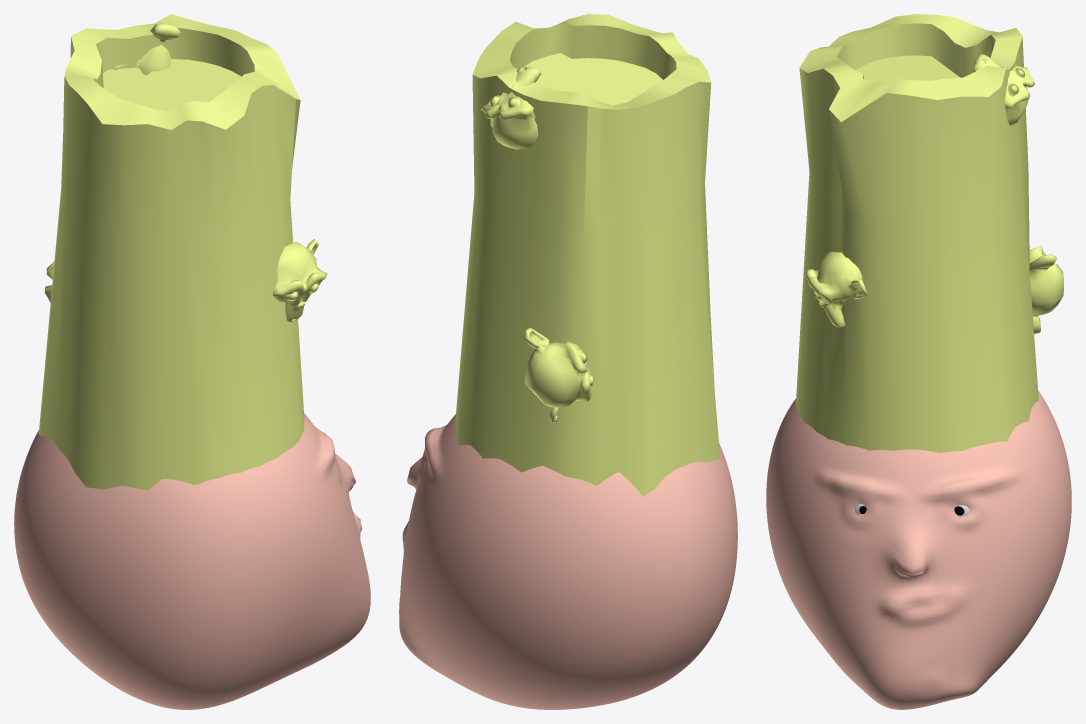
Rendered from CoolingDoods.fbx.
The picture shows the model from 3 angles, left to right: view 1: azimuth 30°, elevation 25°; view 2: azimuth 150°, elevation 25°; view 3: azimuth 270°, elevation 25°; orthographic projection. The views are drawn at different scales.
Parts seen in each view (by area): view 1: StarringDude; view 2: StarringDude; view 3: StarringDude.
Boxes of the visible parts, x1,y1,x2,y2 form: StarringDude: (14,14,370,709); StarringDude: (399,14,737,709); StarringDude: (766,14,1071,709).
Bounding box in the file's own units: 225 × 437 × 198.
